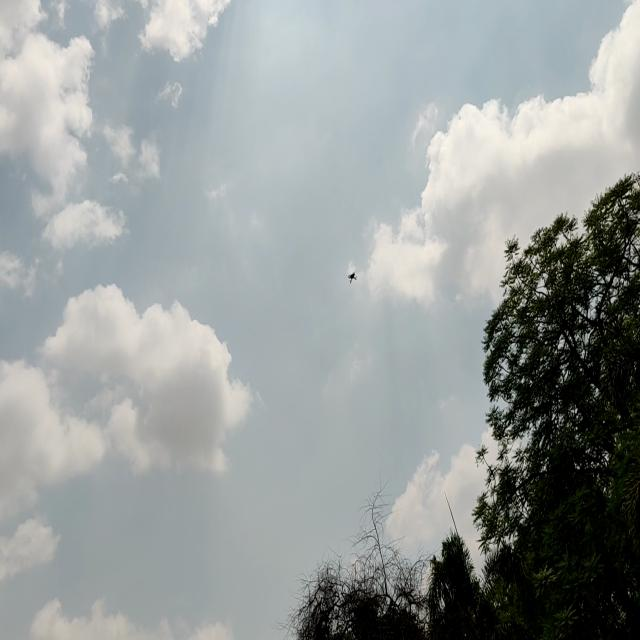drone: (345, 271, 359, 287)
